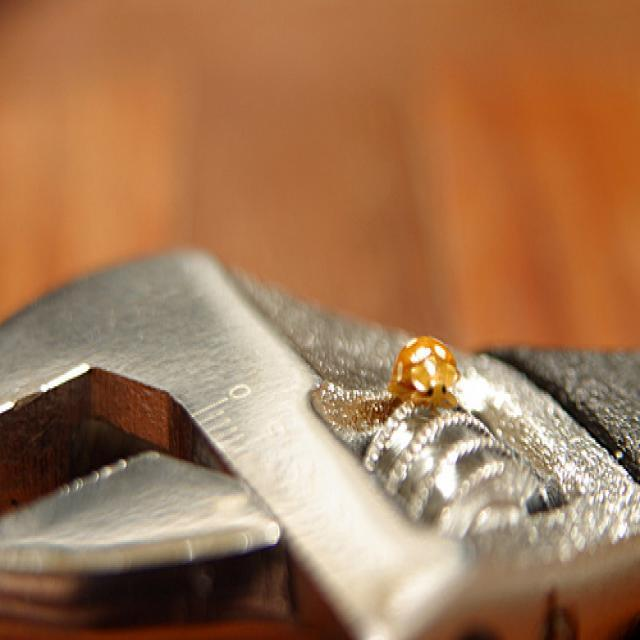wrench: (0, 205, 640, 640)
